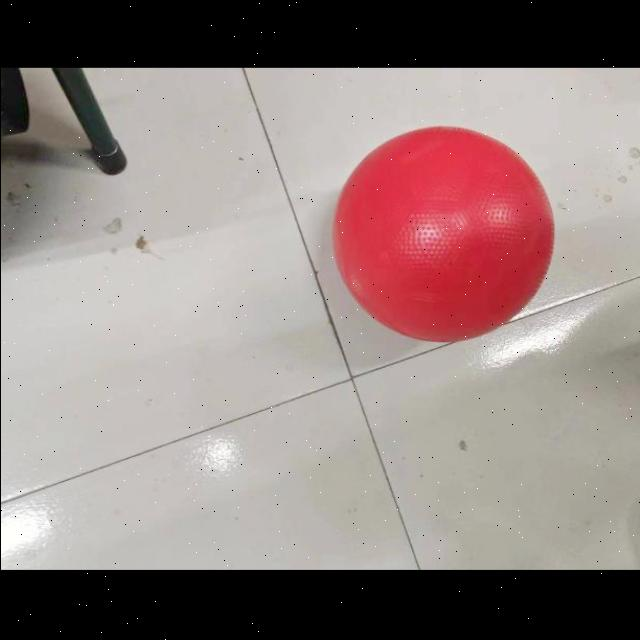R: (326, 119, 558, 348)
